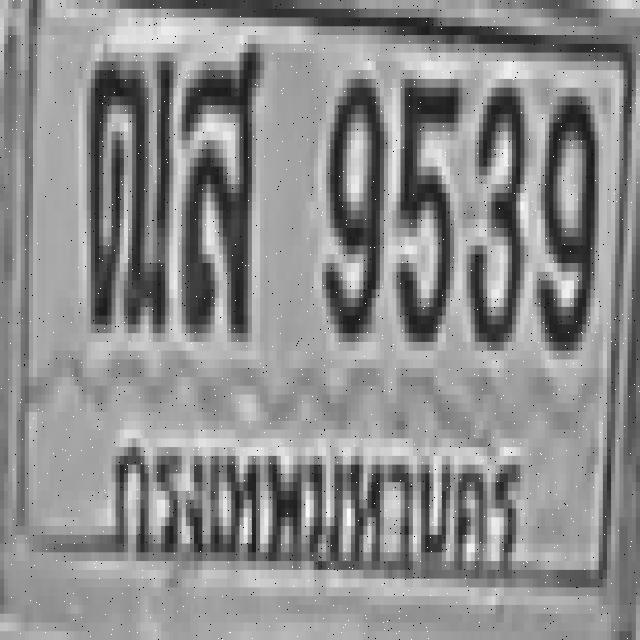27ThorPhuThao: (85, 44, 171, 324)
3: (464, 79, 522, 342)
49SorSuea: (178, 39, 256, 329)
5: (392, 70, 458, 333)
9: (532, 88, 594, 342), (322, 70, 380, 333)
Bangkok: (96, 405, 536, 615)
